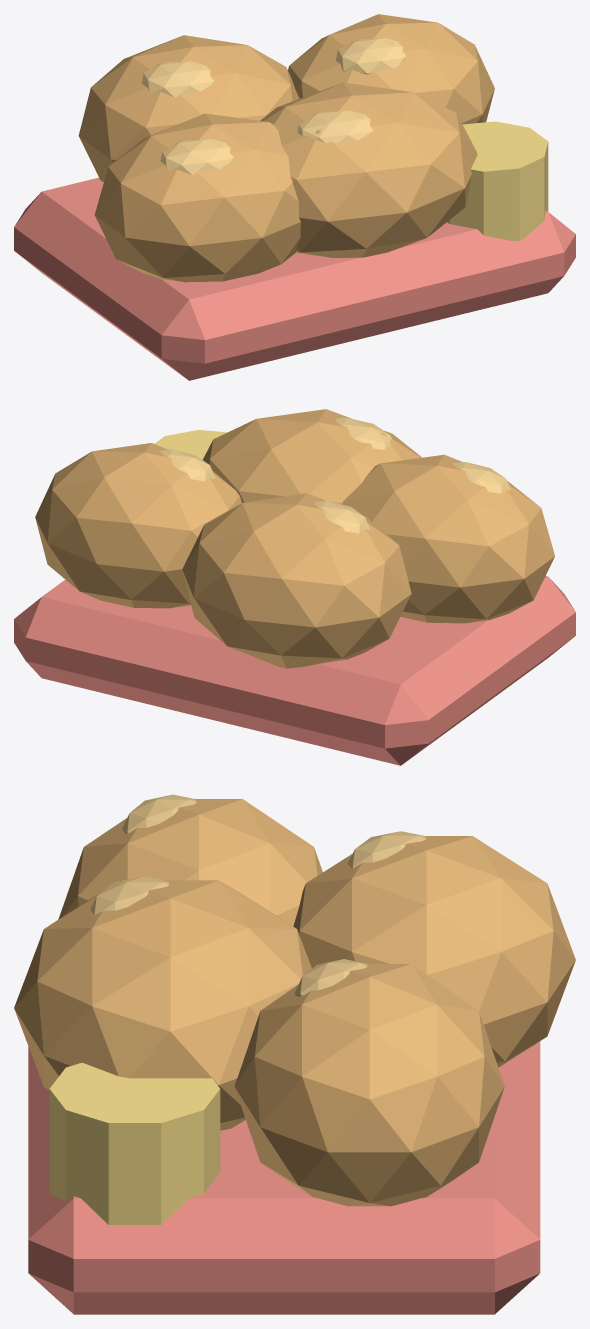
Rendered from FriedChickenNuggets.glb.
3 renders of one model, top to bottom at view 1: azimuth 30°, elevation 25°; view 2: azimuth 150°, elevation 25°; view 3: azimuth 270°, elevation 25°, orthographic. The views are drawn at different scales.
Parts seen in each view (by area): view 1: Visual; view 2: Visual; view 3: Visual.
Boxes of the visible parts, x1,y1,x2,y2 form: Visual: (14, 14, 575, 380); Visual: (14, 409, 575, 765); Visual: (14, 794, 575, 1314).
Size of the model in its own units: 0.4983 by 0.235 by 0.395.
